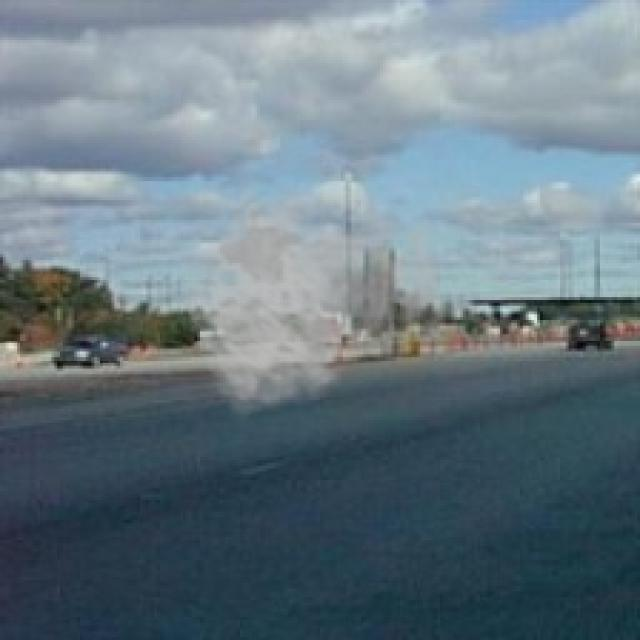smoke: (183, 174, 463, 420)
